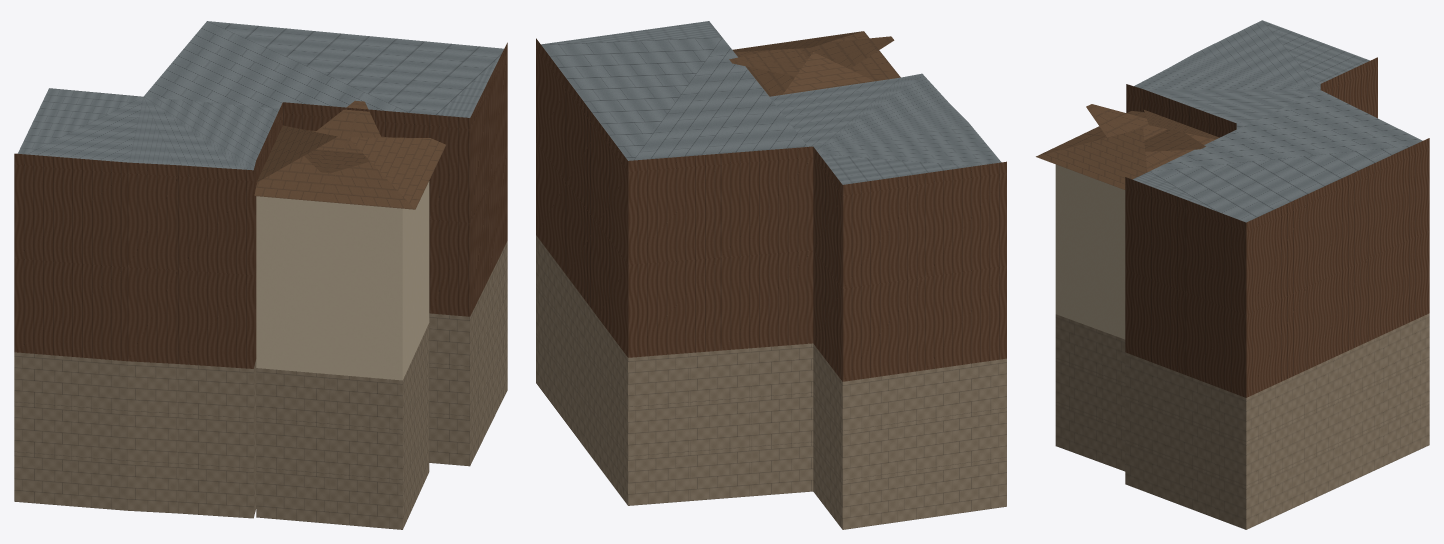
The model's file is bld_c12_41_478.gltf.
3 views of the same model, side by side, from view 1: azimuth 30°, elevation 25°; view 2: azimuth 150°, elevation 25°; view 3: azimuth 270°, elevation 25° (orthographic). The views are drawn at different scales.
Visible parts, largest first — view 1: bld_c12_41_478; view 2: bld_c12_41_478; view 3: bld_c12_41_478.
Part boxes in pixels (bbox=[...]): bld_c12_41_478: bbox=[14, 21, 507, 529]; bld_c12_41_478: bbox=[536, 21, 1006, 529]; bld_c12_41_478: bbox=[1036, 20, 1429, 529].
Size of the model in its own units: 17.29 by 12.2 by 13.8.
6 materials, 6 textured.
